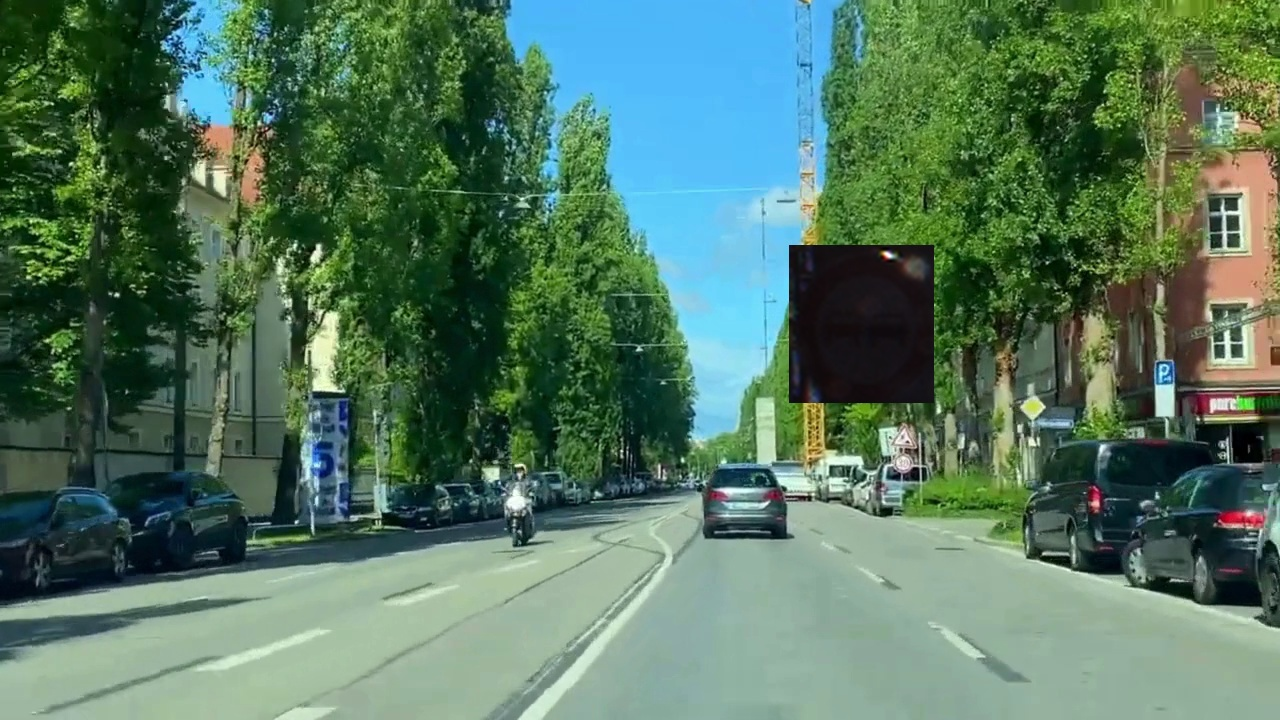No passing: (789, 245, 934, 403)
